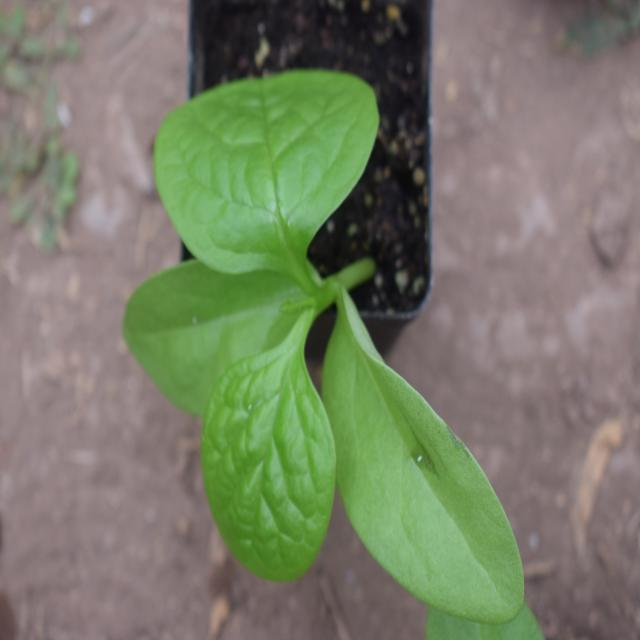Ceylon spinach: (129, 76, 536, 630)
